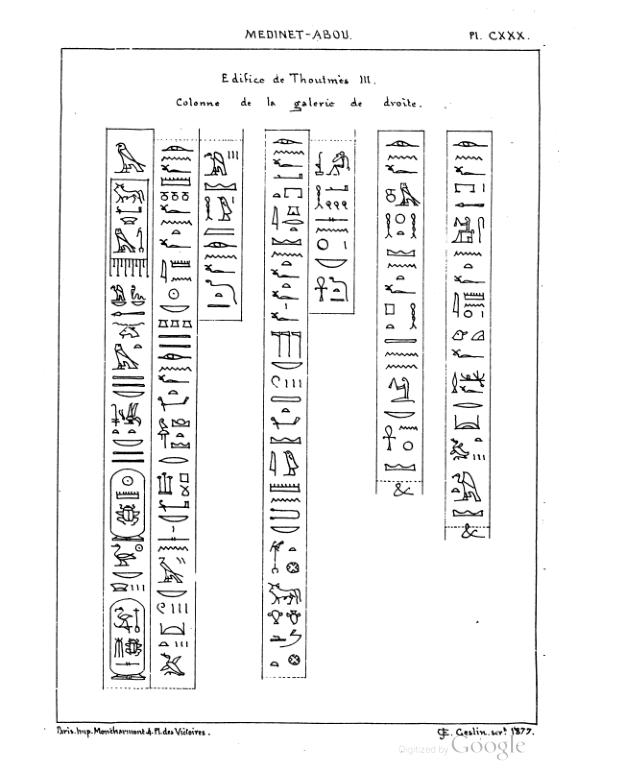circle: (106, 596, 147, 684), (108, 466, 150, 545)
